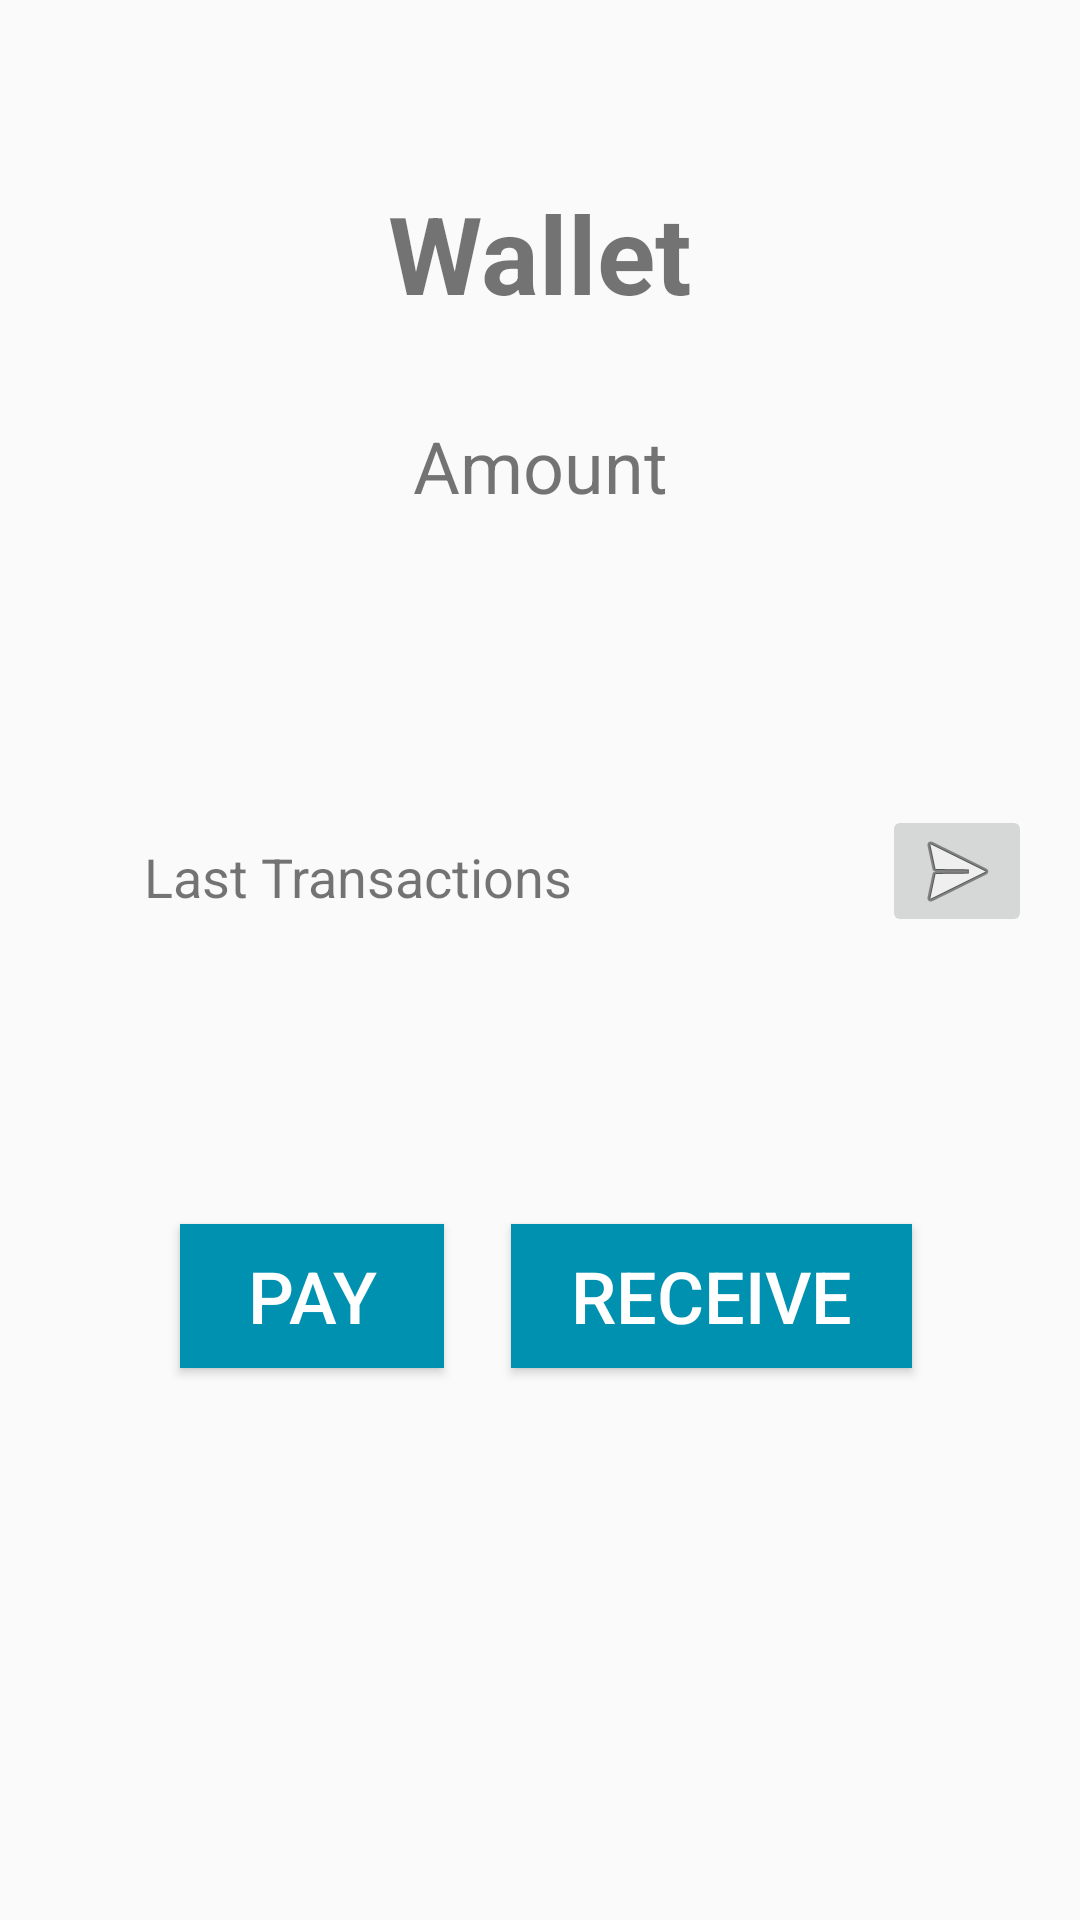

Where icons sit on this 1080px×1920px app screen, as (x1, y1, x2, y2):
send: (894, 823, 1020, 919)
